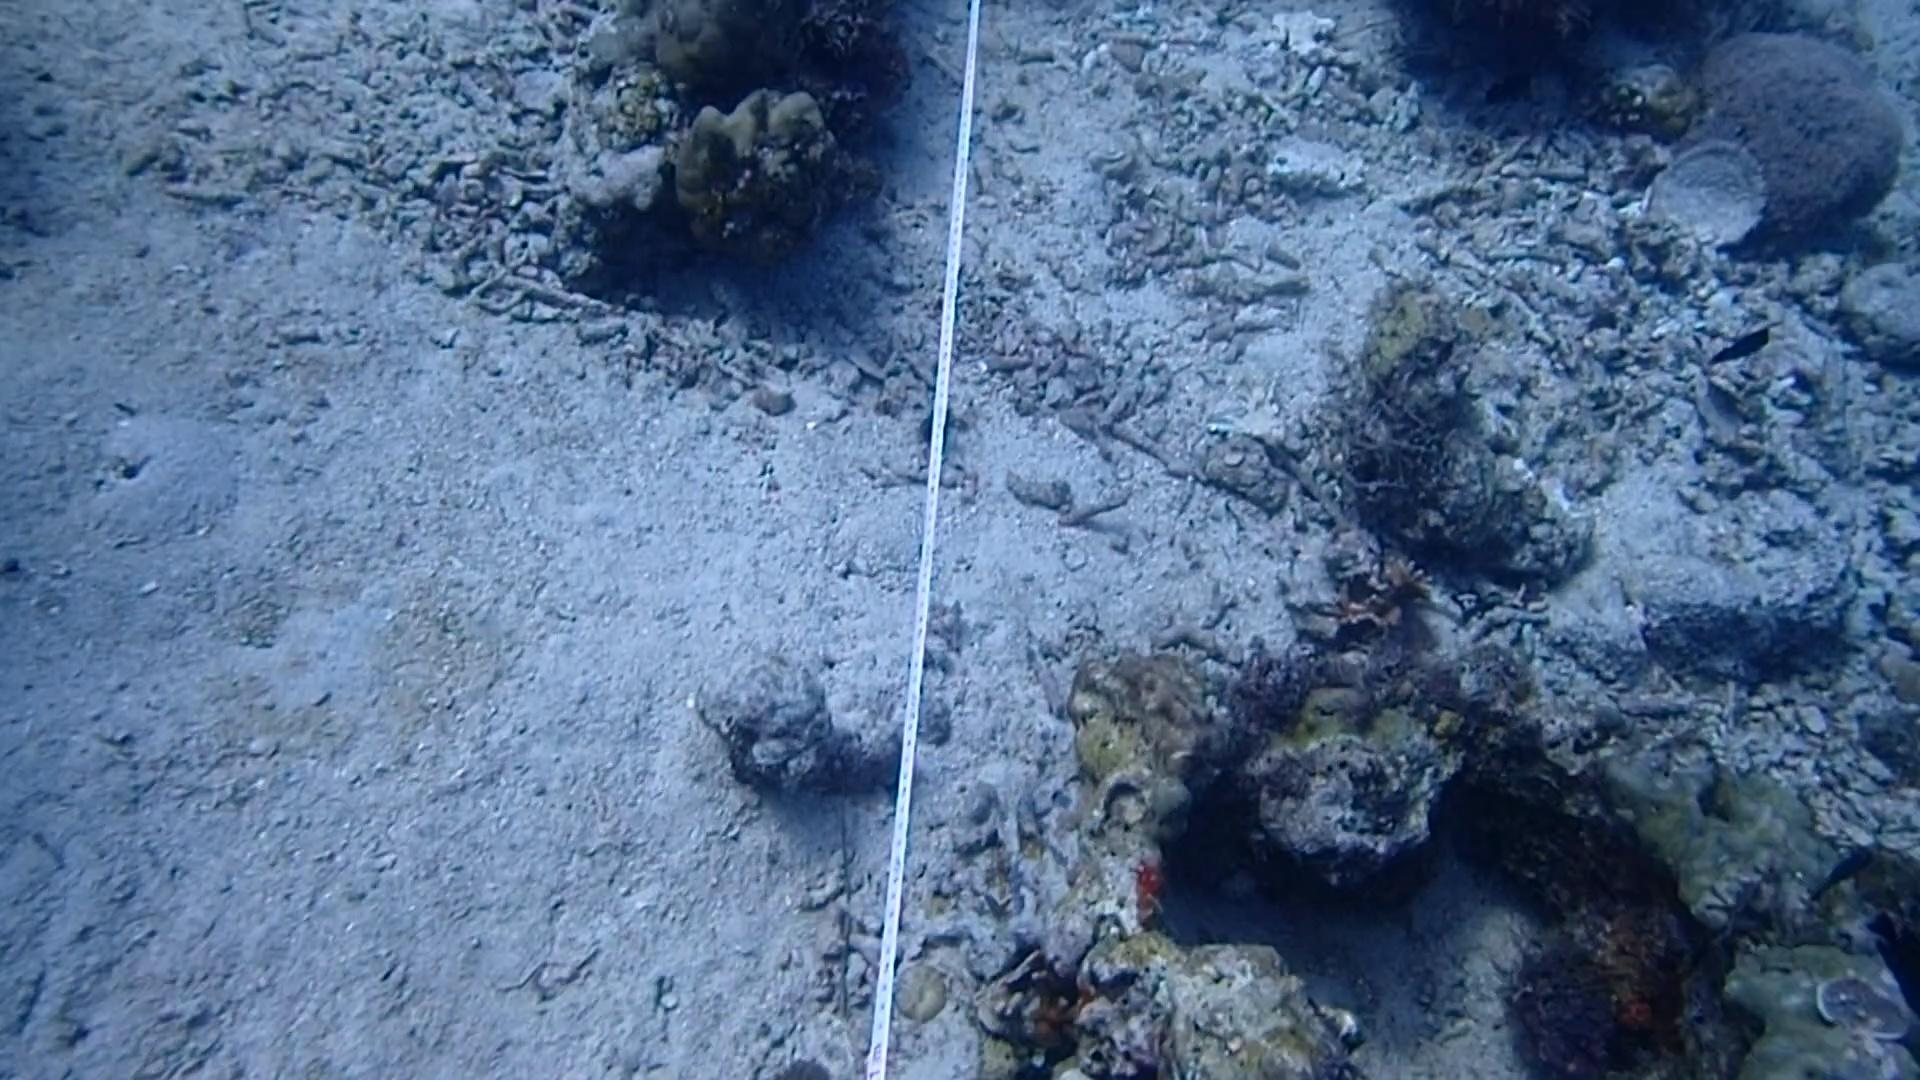Dark Fish: (1857, 901, 1920, 1022), (1466, 58, 1540, 119), (1708, 313, 1779, 368)
